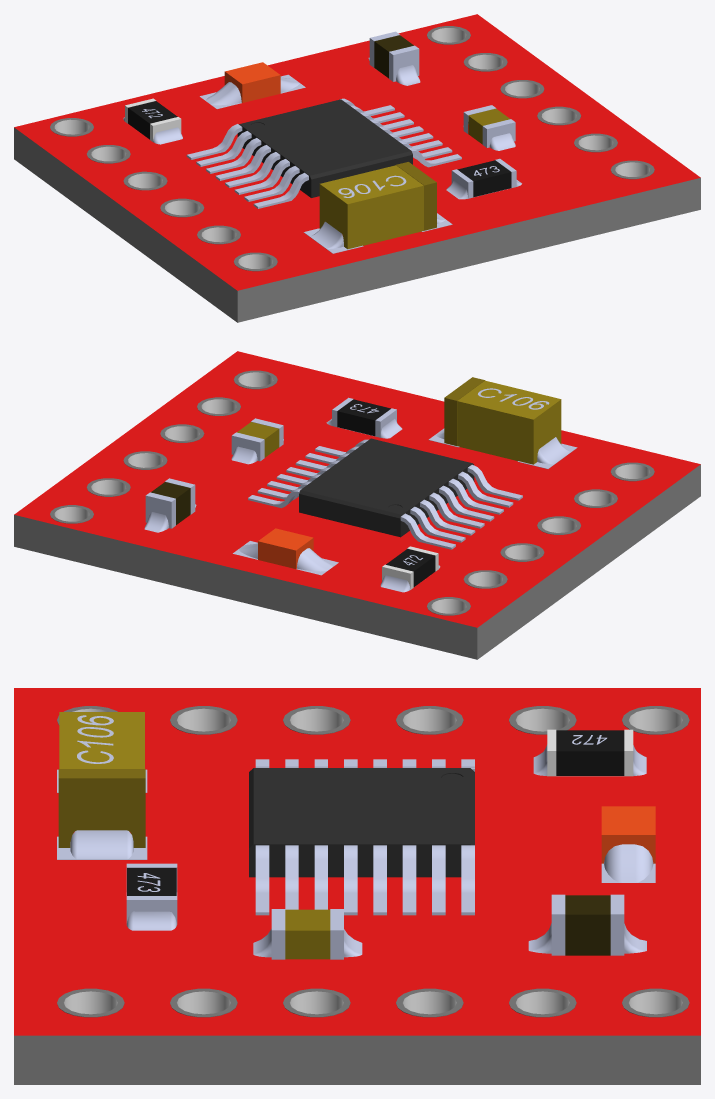
The model's file is drv8833.glb.
3 views of the same model, one above another, from view 1: azimuth 30°, elevation 25°; view 2: azimuth 150°, elevation 25°; view 3: azimuth 270°, elevation 25° (orthographic). The views are drawn at different scales.
Parts seen in each view (by area): view 1: Sólido1; view 2: Sólido1; view 3: Sólido1.
Part boxes in pixels (x1,y1,x2,y2): Sólido1: (14,14,700,322); Sólido1: (14,351,700,659); Sólido1: (14,688,700,1084).
Size of the model in its own units: 0.0182 by 0.00291 by 0.0152.
